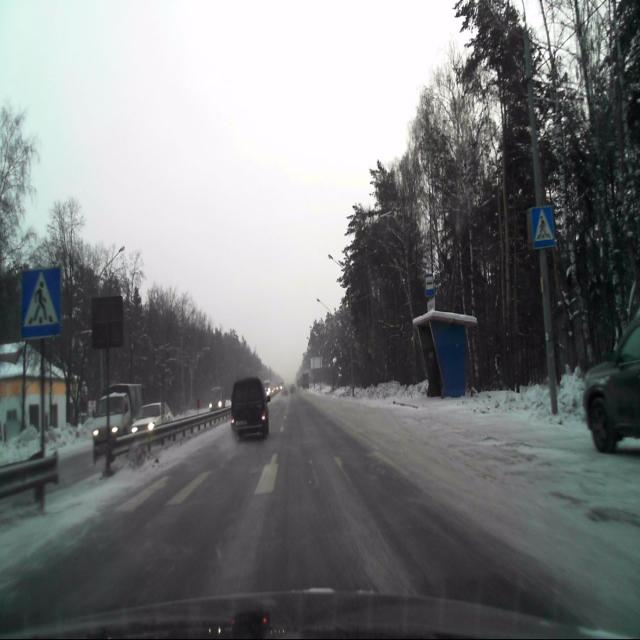road sign: (23, 268, 62, 339), (530, 205, 554, 249)
